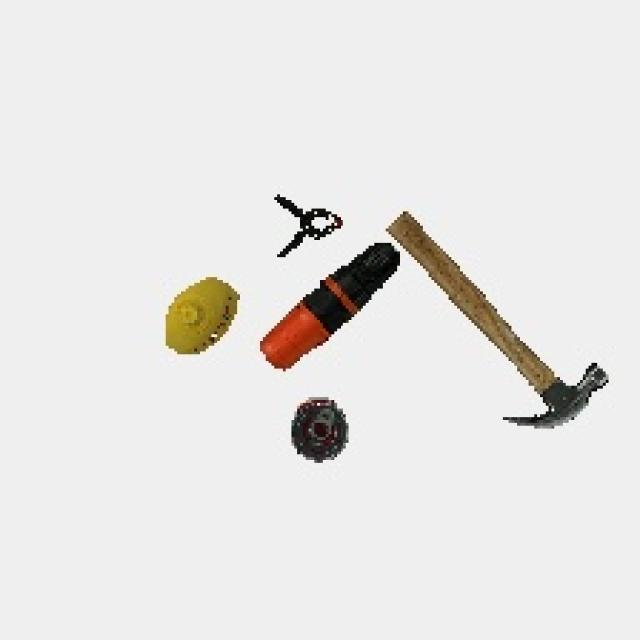MediumClamp: (269, 186, 348, 261)
MustardBottle: (156, 271, 247, 375)
TomatoSoupCan: (281, 393, 359, 470)
